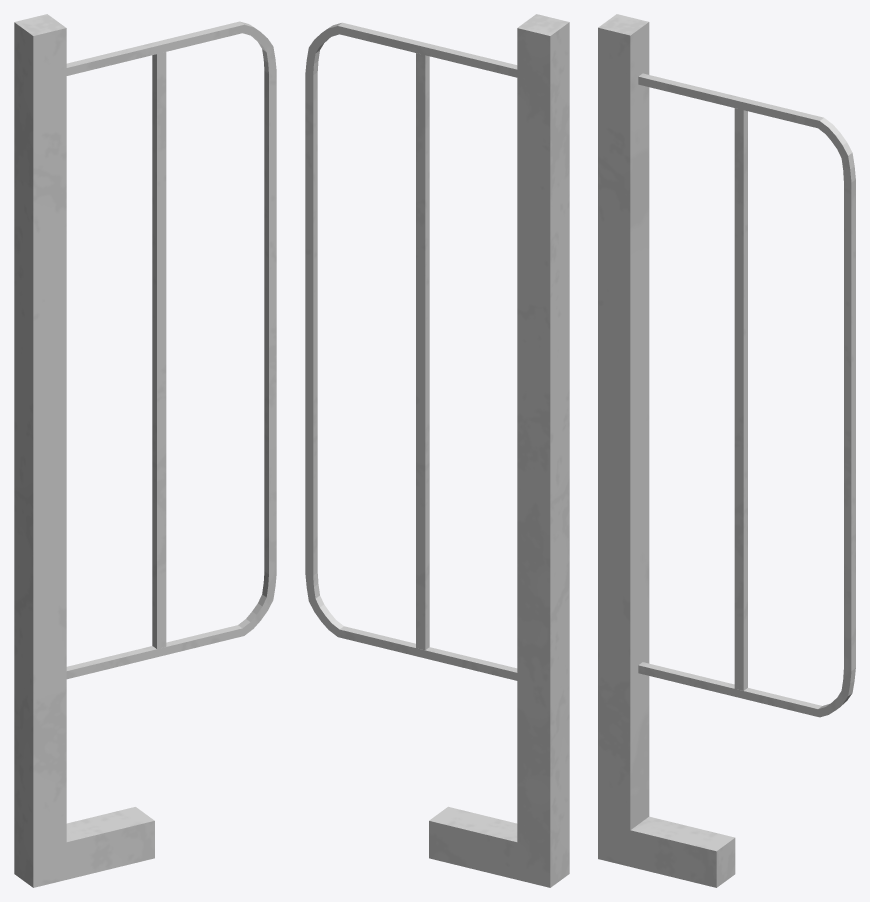
The model's file is Train Coach Handle_A_001.fbx.
3 renders of one model, left to right at view 1: azimuth 30°, elevation 25°; view 2: azimuth 150°, elevation 25°; view 3: azimuth 330°, elevation 25°, orthographic. The views are drawn at different scales.
Visible parts, largest first — view 1: Train_Coach_Handle_A_001; view 2: Train_Coach_Handle_A_001; view 3: Train_Coach_Handle_A_001.
Boxes of the visible parts, box(x1,y1,x2,y2) form: Train_Coach_Handle_A_001: box(14, 14, 276, 887); Train_Coach_Handle_A_001: box(305, 14, 569, 887); Train_Coach_Handle_A_001: box(598, 14, 855, 887).
Size of the model in its own units: 35.26 by 114 by 4.66.
1 material, 1 textured.
